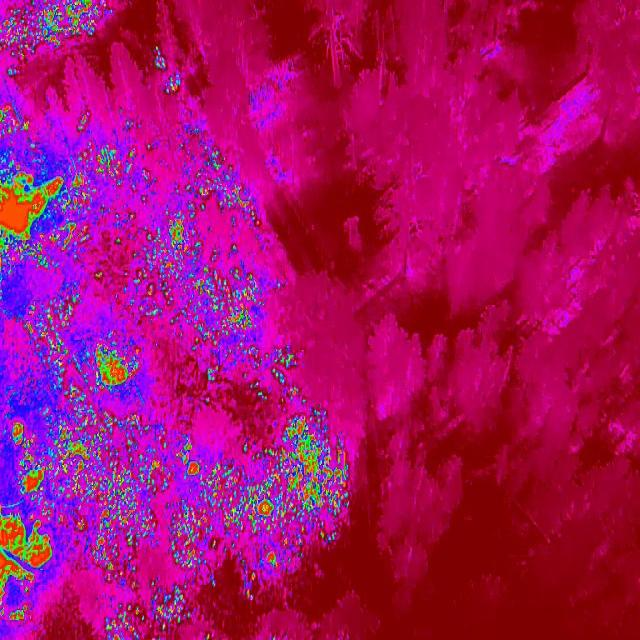fire: (0, 144, 155, 282), (0, 403, 200, 506), (171, 251, 294, 387), (269, 406, 354, 534), (230, 471, 292, 604), (0, 0, 111, 64), (73, 505, 158, 583), (185, 146, 263, 230), (55, 337, 146, 405), (100, 580, 196, 640), (23, 288, 88, 362), (0, 506, 59, 582), (167, 502, 220, 569), (152, 207, 202, 278), (200, 463, 243, 523), (130, 277, 176, 325), (0, 581, 44, 631), (0, 102, 29, 138), (160, 72, 189, 99), (242, 442, 272, 466), (152, 44, 174, 72), (72, 110, 94, 134)
